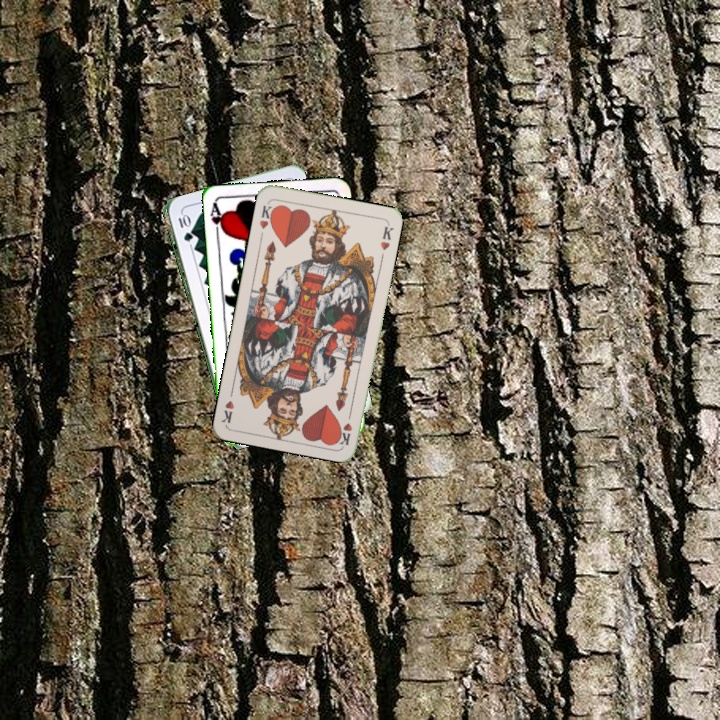G10: (174, 210, 194, 244)
HA: (207, 200, 228, 241)
HK: (335, 406, 354, 447), (255, 201, 278, 231)
